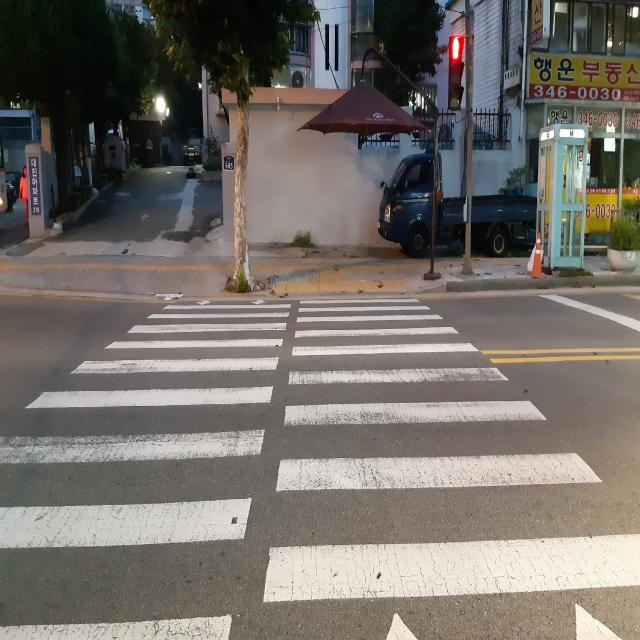빨간불: (449, 36, 464, 106)
횡단보도: (0, 297, 640, 640)
